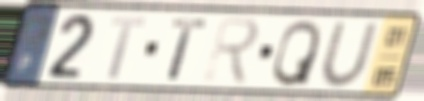2: (42, 12, 97, 81)
Q: (269, 17, 323, 89)
R: (201, 15, 263, 88)
T: (105, 14, 150, 82), (166, 16, 210, 83)
U: (318, 20, 381, 89)
